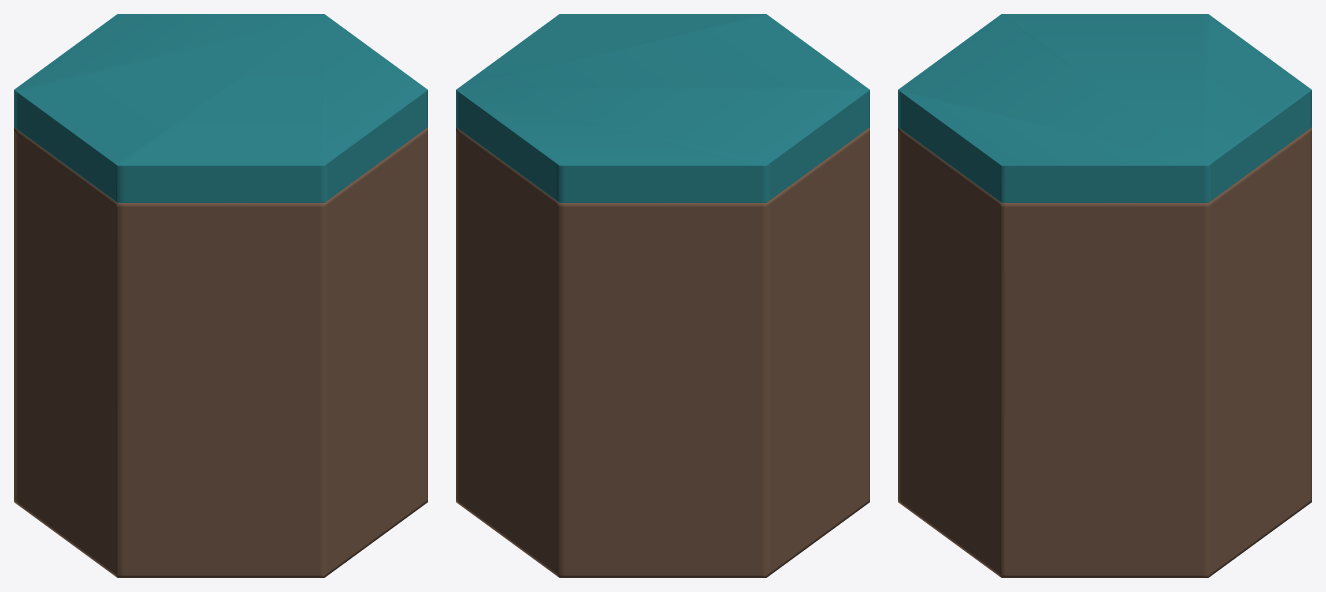
Rendered from electric_spawn.fbx.
The picture shows the model from 3 angles, left to right: view 1: azimuth 30°, elevation 25°; view 2: azimuth 150°, elevation 25°; view 3: azimuth 270°, elevation 25°; orthographic projection.
Visible parts, largest first — view 1: Cylinder, Cylinder.001; view 2: Cylinder, Cylinder.001; view 3: Cylinder, Cylinder.001.
Boxes of the visible parts, x1,y1,x2,y2 form: Cylinder: [14, 127, 427, 577]; Cylinder.001: [14, 14, 427, 202]; Cylinder: [456, 127, 869, 577]; Cylinder.001: [456, 14, 869, 202]; Cylinder: [898, 127, 1311, 577]; Cylinder.001: [898, 14, 1311, 202].
Size of the model in its own units: 173 by 220 by 200.
